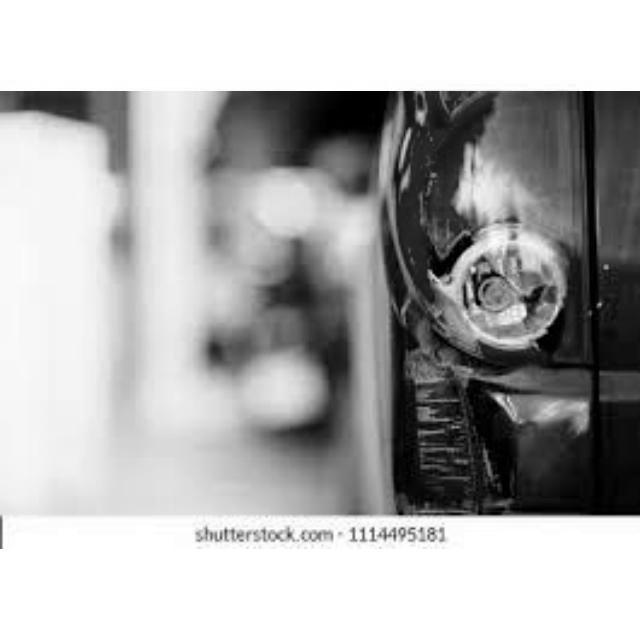Taillight-Damage: (391, 92, 613, 519)
